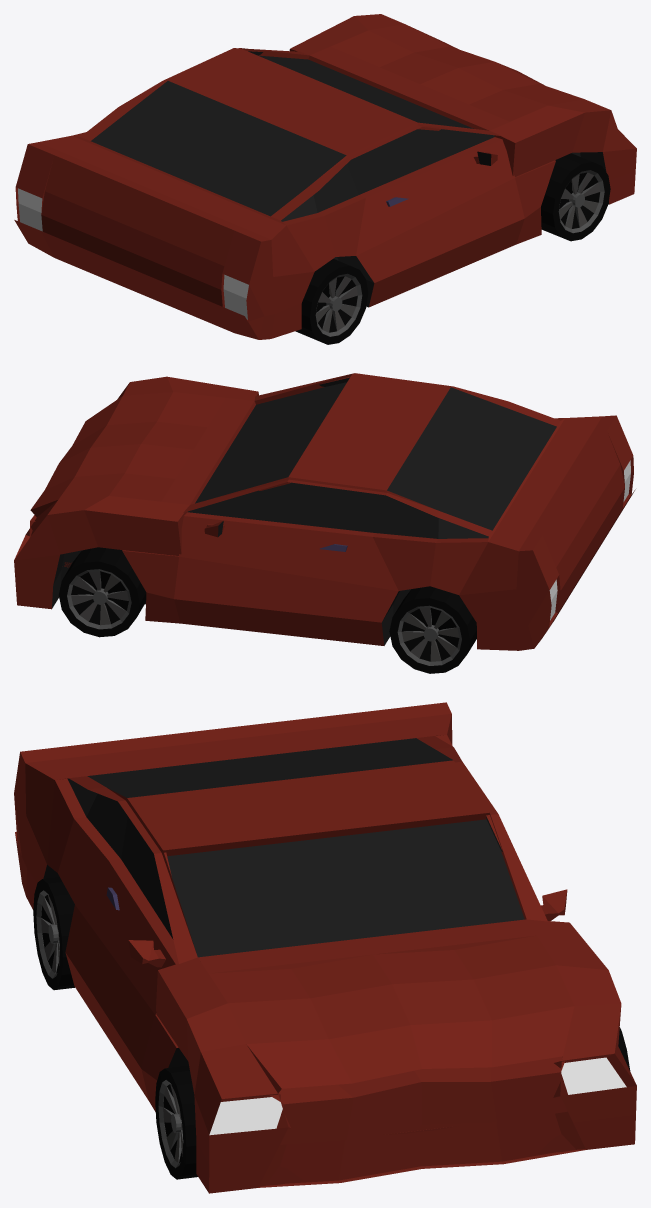
Rendered from LowPolyVehicle.fbx.
3 views of the same model, one above another, from view 1: azimuth 30°, elevation 25°; view 2: azimuth 150°, elevation 25°; view 3: azimuth 270°, elevation 25° (orthographic). The views are drawn at different scales.
Visible parts, largest first — view 1: Car, Circle, Circle.001; view 2: Car, Circle.002, Circle.003; view 3: Car, Circle, Circle.001.
Boxes of the visible parts, x1,y1,x2,y2 form: Car: [14, 14, 636, 339]; Circle: [541, 153, 610, 241]; Circle.001: [295, 258, 368, 344]; Car: [14, 373, 635, 650]; Circle.002: [58, 547, 146, 637]; Circle.003: [389, 586, 476, 673]; Car: [14, 702, 636, 1193]; Circle: [155, 1065, 197, 1179]; Circle.001: [33, 877, 74, 990].
Bounding box in the file's own units: 480 × 136 × 357.
